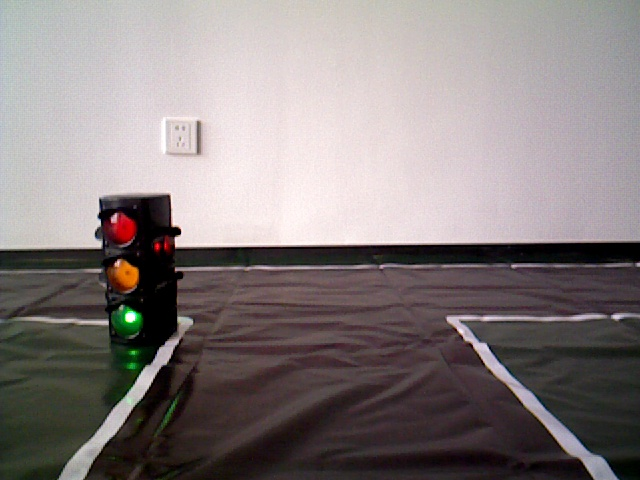green: (103, 201, 176, 334)
